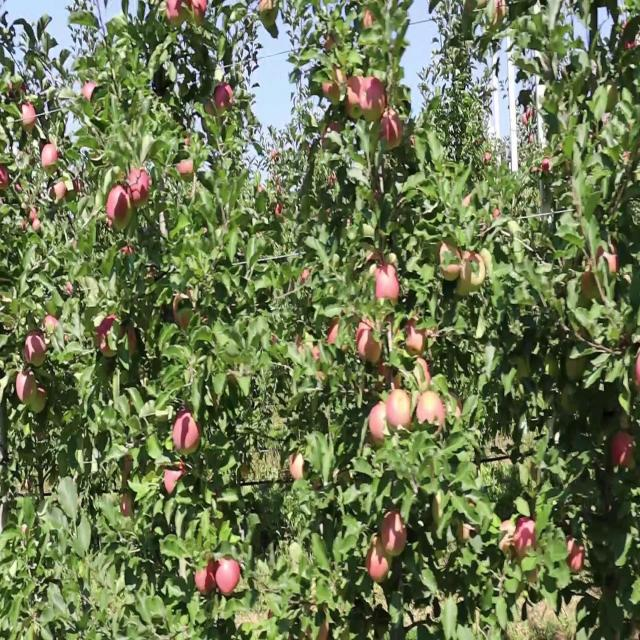apple: (584, 241, 620, 300), (588, 241, 620, 284), (361, 78, 388, 126), (416, 391, 447, 432), (380, 511, 408, 555), (172, 412, 201, 453), (356, 319, 383, 363), (460, 255, 487, 292), (516, 519, 538, 564), (376, 263, 400, 304), (440, 241, 463, 283), (108, 184, 131, 226), (368, 540, 390, 583), (388, 391, 413, 428), (216, 561, 241, 597), (128, 170, 151, 208), (404, 319, 427, 357), (380, 113, 404, 149), (516, 519, 538, 558), (596, 241, 620, 276), (612, 433, 635, 469), (24, 334, 48, 368), (368, 405, 389, 443), (96, 319, 116, 357), (172, 291, 191, 331), (564, 540, 585, 576), (164, 462, 186, 496), (324, 71, 346, 105), (196, 561, 216, 597), (456, 270, 480, 299), (346, 78, 362, 121), (16, 369, 35, 404), (456, 519, 479, 544), (216, 85, 235, 114), (568, 355, 586, 384), (188, 0, 208, 25), (24, 206, 41, 235), (416, 362, 432, 391), (448, 391, 464, 420), (500, 526, 515, 556), (292, 455, 307, 484), (312, 618, 331, 639), (24, 106, 37, 135), (124, 327, 137, 356), (376, 362, 393, 384), (388, 369, 404, 391), (168, 7, 185, 27), (328, 319, 340, 347), (44, 149, 59, 171), (324, 127, 342, 142), (120, 497, 132, 519), (124, 455, 133, 484), (8, 85, 27, 98), (128, 327, 137, 354), (36, 391, 48, 411), (520, 362, 532, 382), (84, 85, 97, 103), (180, 163, 195, 178), (204, 99, 217, 116), (0, 170, 10, 192), (320, 618, 330, 639), (368, 255, 384, 268), (56, 184, 68, 201), (44, 319, 59, 332), (364, 14, 375, 30), (636, 355, 640, 393), (260, 7, 270, 16)
